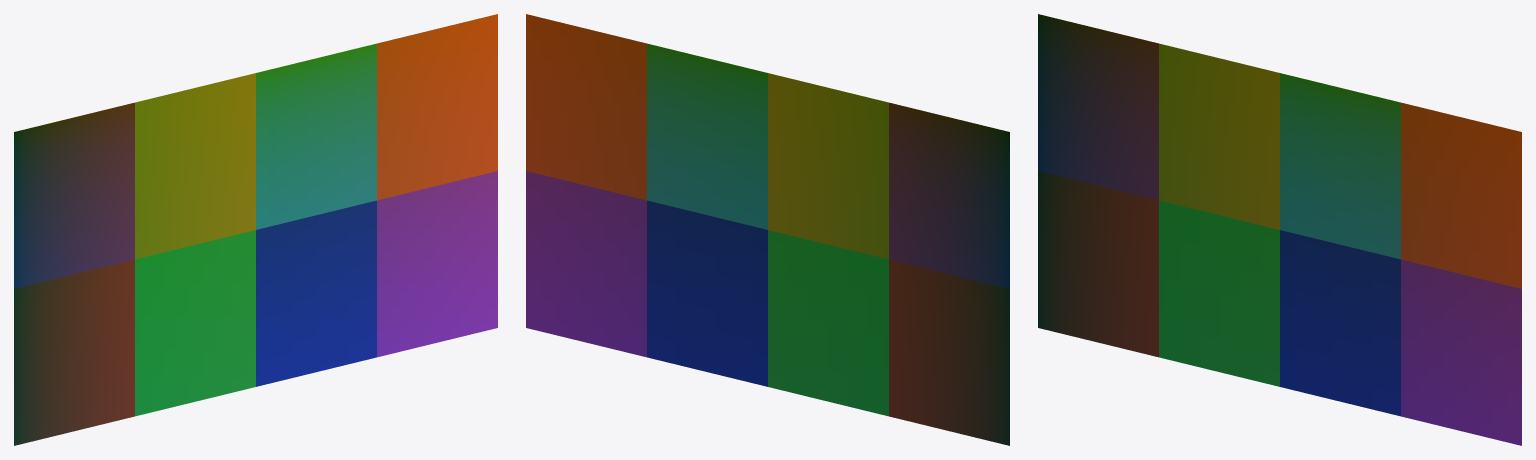
Rendered from meshopt-v0.glb.
3 renders of one model, left to right at view 1: azimuth 30°, elevation 25°; view 2: azimuth 150°, elevation 25°; view 3: azimuth 330°, elevation 25°, orthographic.
Parts seen in each view (by area): view 1: Animated grid; view 2: Animated grid; view 3: Animated grid.
Part boxes in pixels (box(x1,y1,x2,y2)): Animated grid: box(14, 14, 497, 445); Animated grid: box(526, 14, 1009, 445); Animated grid: box(1038, 14, 1521, 445).
Bounding box in the file's own units: 2.5 × 1.55 × 0.
1 material, 1 textured.
